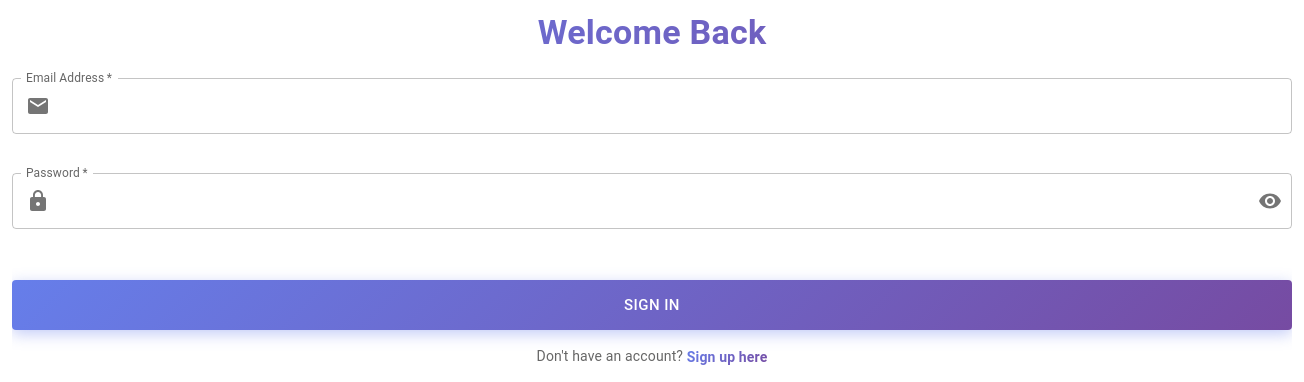
it: ModernLoginForm › Form Validation › should show error for empty email on blur
Step 1. Click the field labelled "Email Address *" → (675,106), box [58,78,1292,134]
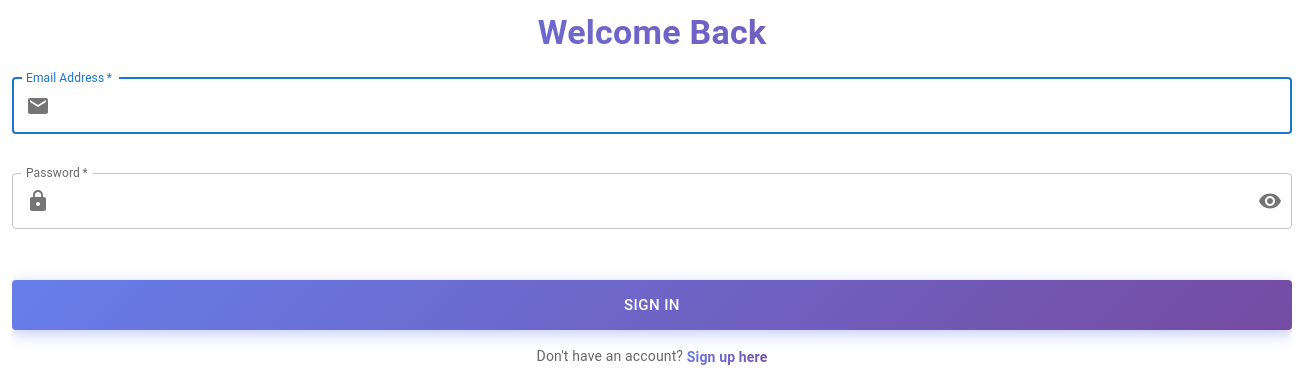
Step 2. Press Tab
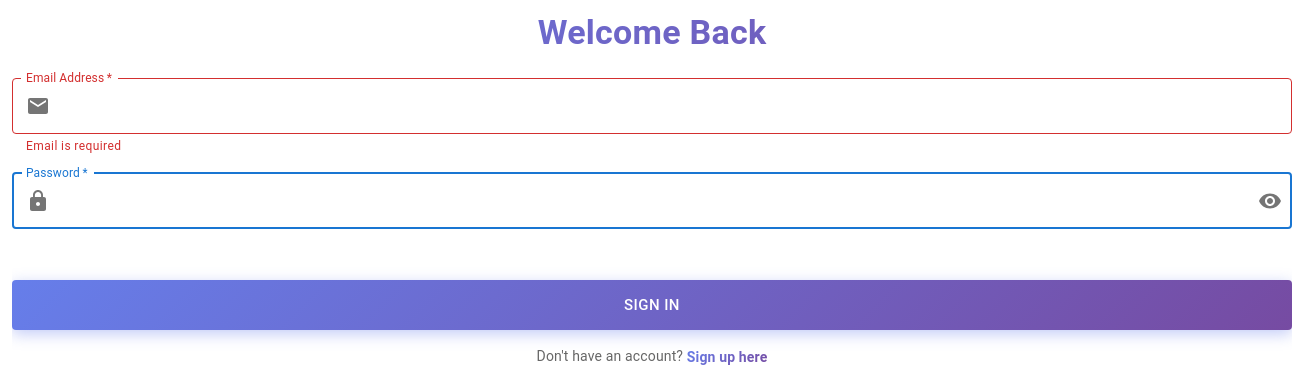
Expected: the text "Email is required" is shown, [26,139,121,153]
